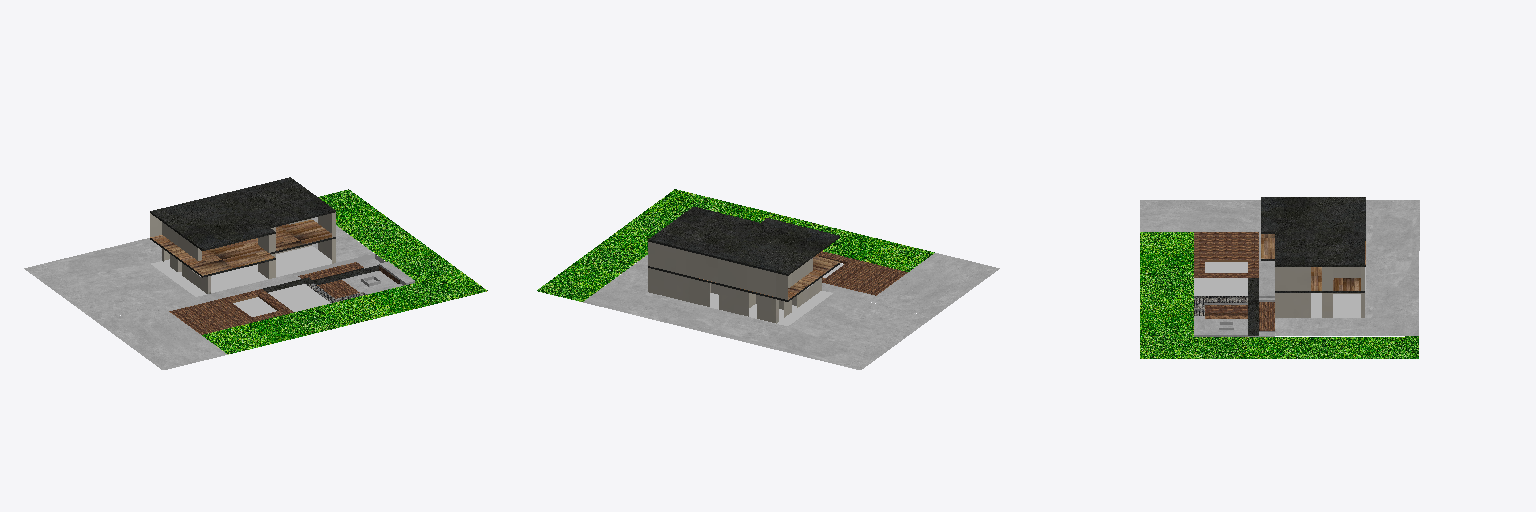
3 renders of one model, left to right at view 1: azimuth 30°, elevation 25°; view 2: azimuth 150°, elevation 25°; view 3: azimuth 270°, elevation 25°, orthographic.
Visible parts, largest first — view 1: piso_gris_Plane.006, pasto_Plane.011, 3PLANTA_firme_Plane.047, duela_Plane.004, 1PLANTA_duela_Plane.043, piso_casa_Plane.002, 2PLANTA-paredes_Plane.046, 1PLANTA_paredes_Plane, loceta_blanca_Plane.007, pasillo_gris_Plane.005; view 2: piso_gris_Plane.006, pasto_Plane.011, 3PLANTA_firme_Plane.047, 2PLANTA-paredes_Plane.046, 1PLANTA_paredes_Plane, duela_Plane.004, piso_casa_Plane.002, 1PLANTA_duela_Plane.043; view 3: piso_gris_Plane.006, pasto_Plane.011, 3PLANTA_firme_Plane.047, duela_Plane.004, 2PLANTA-paredes_Plane.046, 1PLANTA_paredes_Plane, 1PLANTA_duela_Plane.043, piso_casa_Plane.002, loceta_blanca_Plane.007, pasillo_gris_Plane.005.
Boxes of the visible parts, <box> form: piso_gris_Plane.006: <box>24,217,414,369</box>; pasto_Plane.011: <box>202,189,487,354</box>; 3PLANTA_firme_Plane.047: <box>151,177,334,248</box>; duela_Plane.004: <box>169,262,399,334</box>; 1PLANTA_duela_Plane.043: <box>150,220,331,275</box>; piso_casa_Plane.002: <box>151,246,385,296</box>; 2PLANTA-paredes_Plane.046: <box>150,212,335,260</box>; 1PLANTA_paredes_Plane: <box>162,239,335,293</box>; loceta_blanca_Plane.007: <box>268,284,330,311</box>; pasillo_gris_Plane.005: <box>263,265,378,292</box>; piso_gris_Plane.006: <box>583,253,999,369</box>; pasto_Plane.011: <box>537,189,934,301</box>; 3PLANTA_firme_Plane.047: <box>648,207,838,273</box>; 2PLANTA-paredes_Plane.046: <box>648,242,812,299</box>; 1PLANTA_paredes_Plane: <box>648,268,821,323</box>; duela_Plane.004: <box>816,251,907,295</box>; piso_casa_Plane.002: <box>661,287,832,325</box>; 1PLANTA_duela_Plane.043: <box>699,256,839,299</box>; piso_gris_Plane.006: <box>1140,200,1419,336</box>; pasto_Plane.011: <box>1140,232,1418,358</box>; 3PLANTA_firme_Plane.047: <box>1261,197,1365,264</box>; duela_Plane.004: <box>1194,232,1274,330</box>; 2PLANTA-paredes_Plane.046: <box>1275,267,1364,290</box>; 1PLANTA_paredes_Plane: <box>1275,293,1364,317</box>; 1PLANTA_duela_Plane.043: <box>1261,234,1365,290</box>; piso_casa_Plane.002: <box>1248,267,1365,336</box>; loceta_blanca_Plane.007: <box>1194,278,1247,295</box>; pasillo_gris_Plane.005: <box>1248,278,1258,335</box>.
Bounding box in the file's own units: 34.99 × 5.9 × 25.98.
Materials: 11 (8 with a texture image).